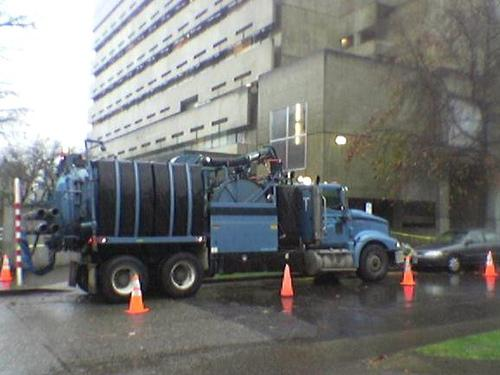truck: (18, 137, 401, 305)
